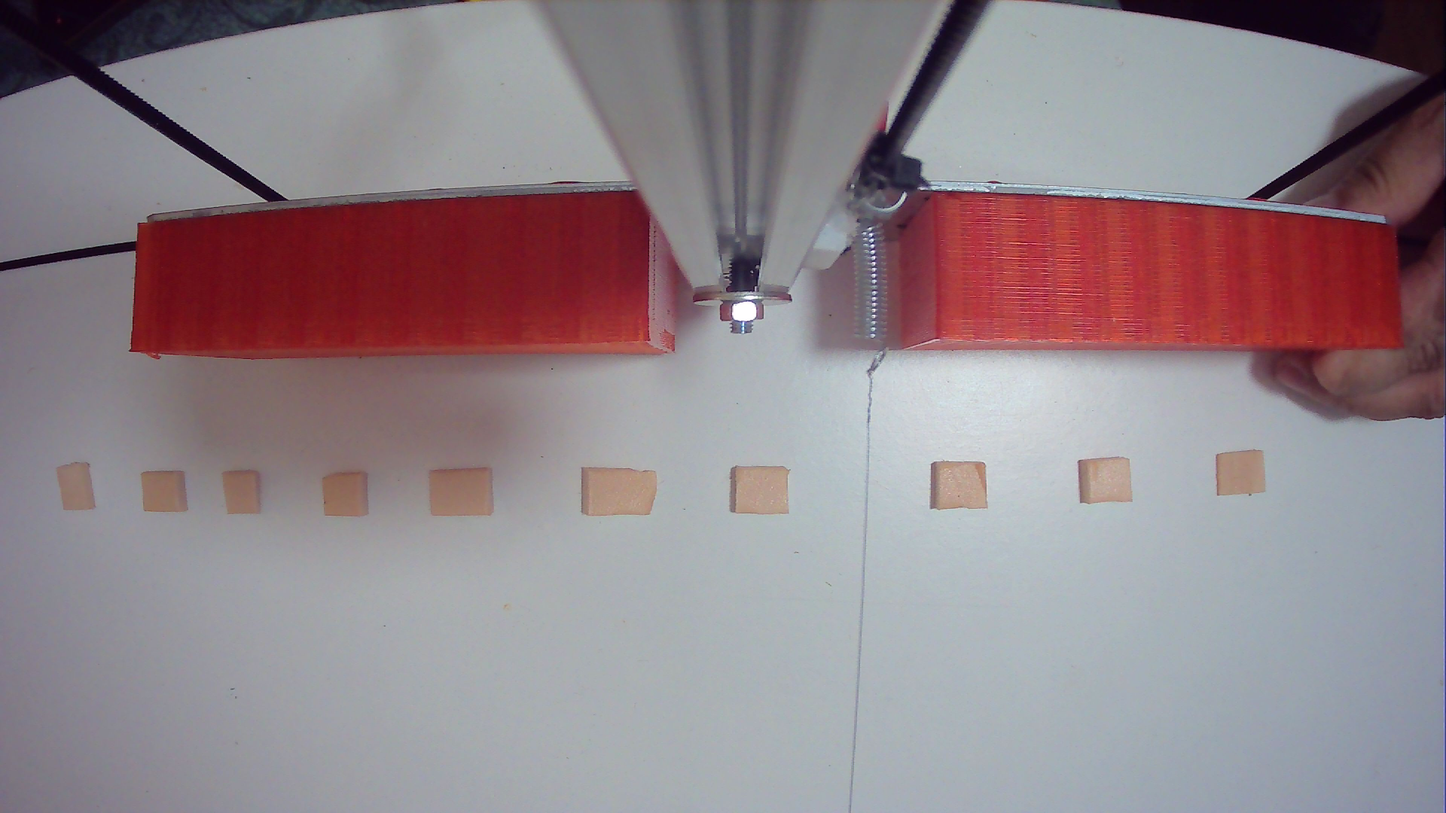polistirolo: (422, 451, 504, 528), (576, 457, 660, 522), (920, 451, 997, 520), (727, 455, 801, 526), (1069, 446, 1143, 516), (313, 457, 377, 526), (49, 449, 104, 528), (1206, 438, 1268, 508), (131, 461, 199, 518), (215, 457, 272, 520)
